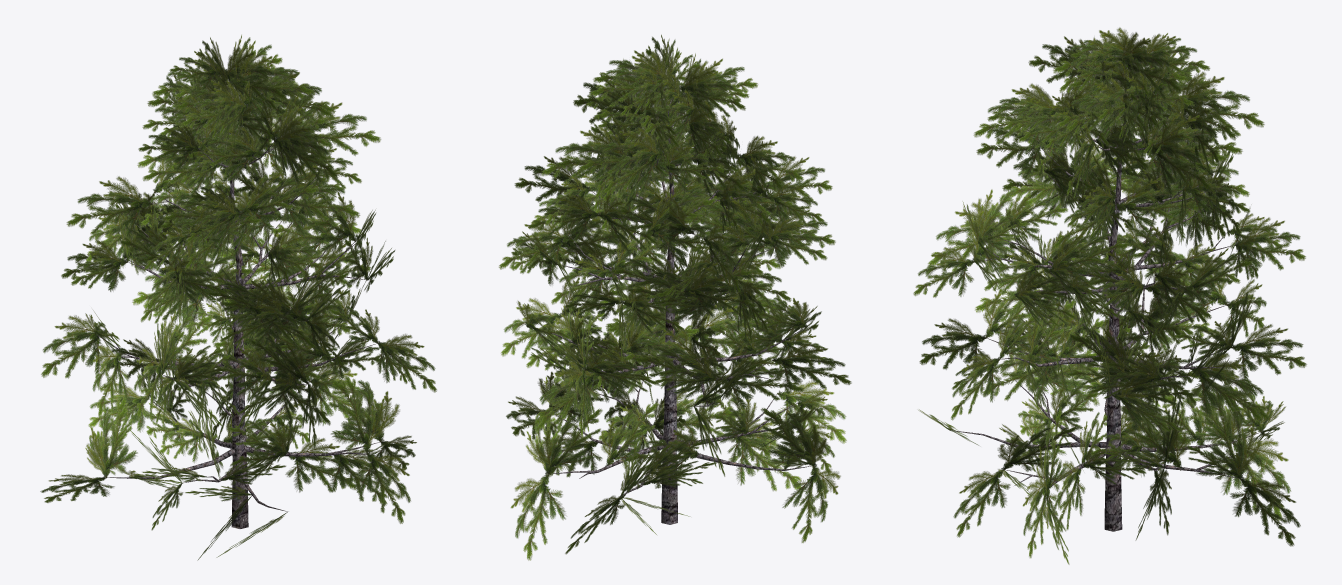
The model's file is small_pine.glb.
3 views of the same model, side by side, from view 1: azimuth 30°, elevation 25°; view 2: azimuth 150°, elevation 25°; view 3: azimuth 270°, elevation 25° (orthographic). The views are drawn at different scales.
Parts seen in each view (by area): view 1: ve1.118_1, tree_0; view 2: ve1.118_1, tree_0; view 3: ve1.118_1, tree_0.
Part boxes in pixels (x1,y1,x2,y2): ve1.118_1: (40, 34, 436, 560); tree_0: (96, 109, 380, 528); ve1.118_1: (499, 34, 851, 560); tree_0: (548, 89, 812, 524); ve1.118_1: (913, 27, 1306, 564); tree_0: (949, 62, 1260, 531).
Bounding box in the file's own units: 15.59 × 20 × 15.14.
2 materials, 2 textured.
